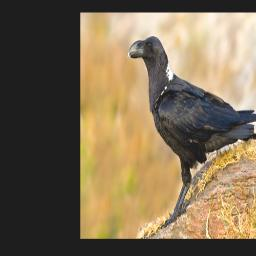Crow: (126, 36, 256, 229)
